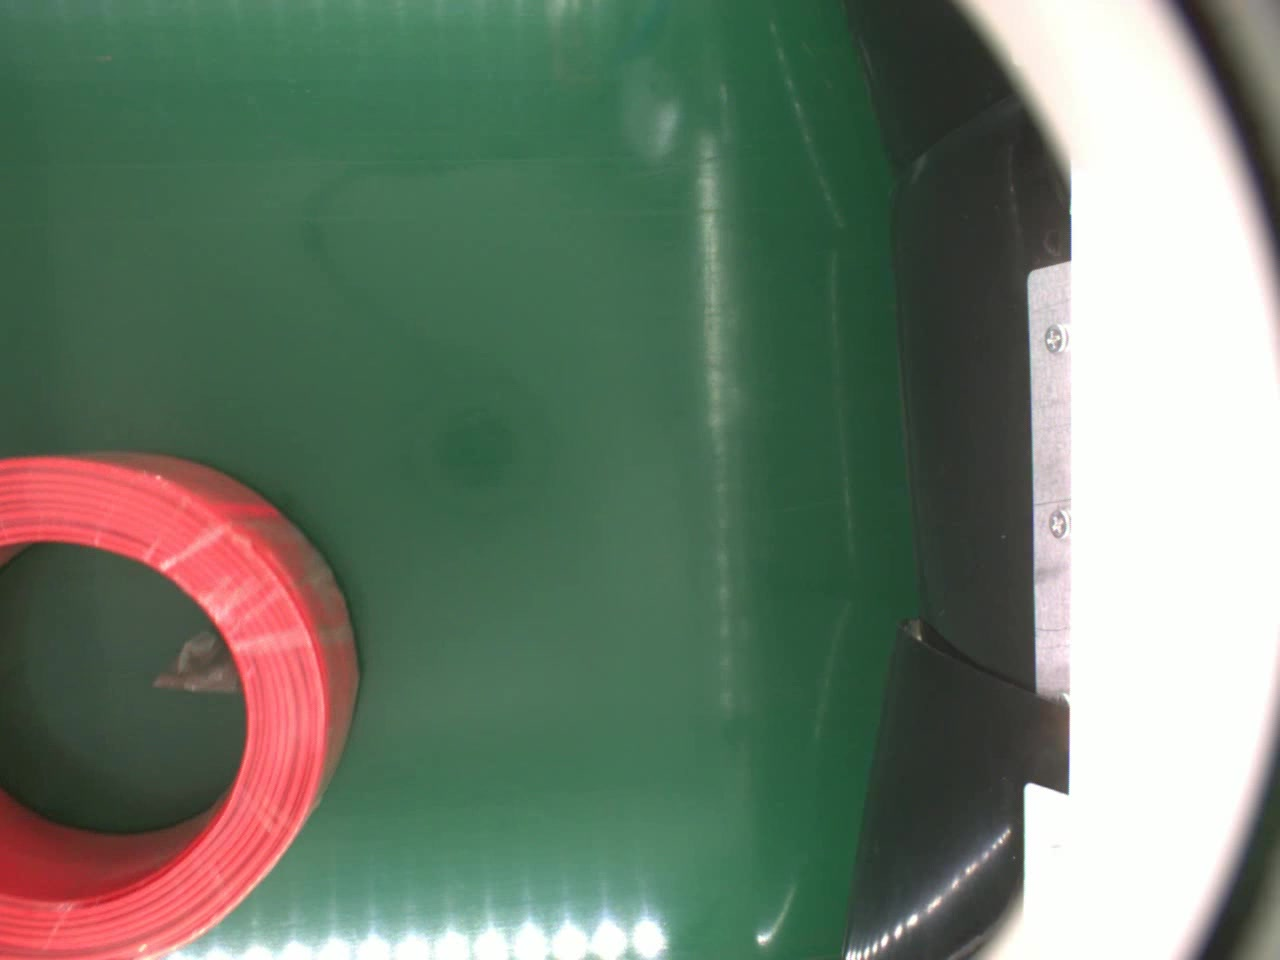red: (0, 441, 361, 960)
